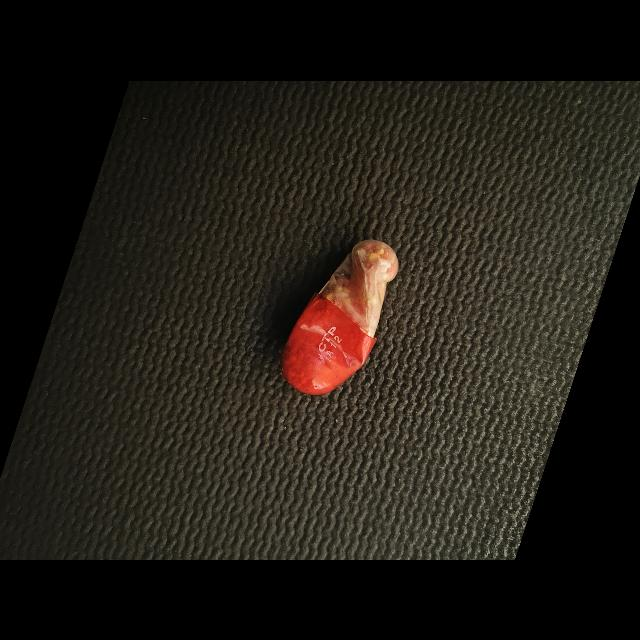Defective Capsule: (282, 239, 399, 395)
